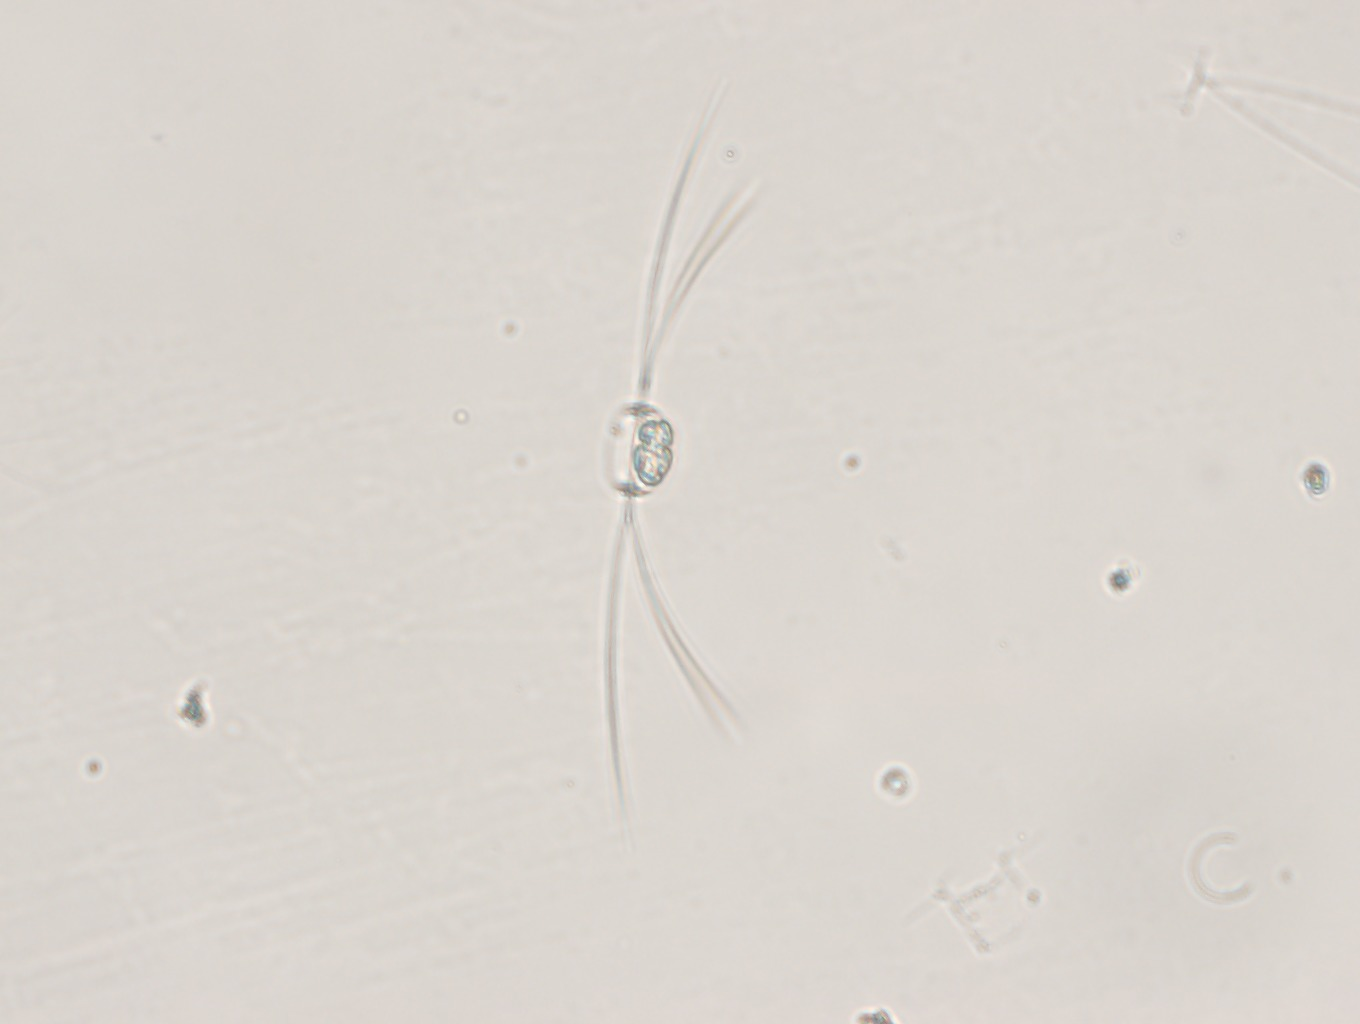chaetoceros: (593, 54, 769, 841)
